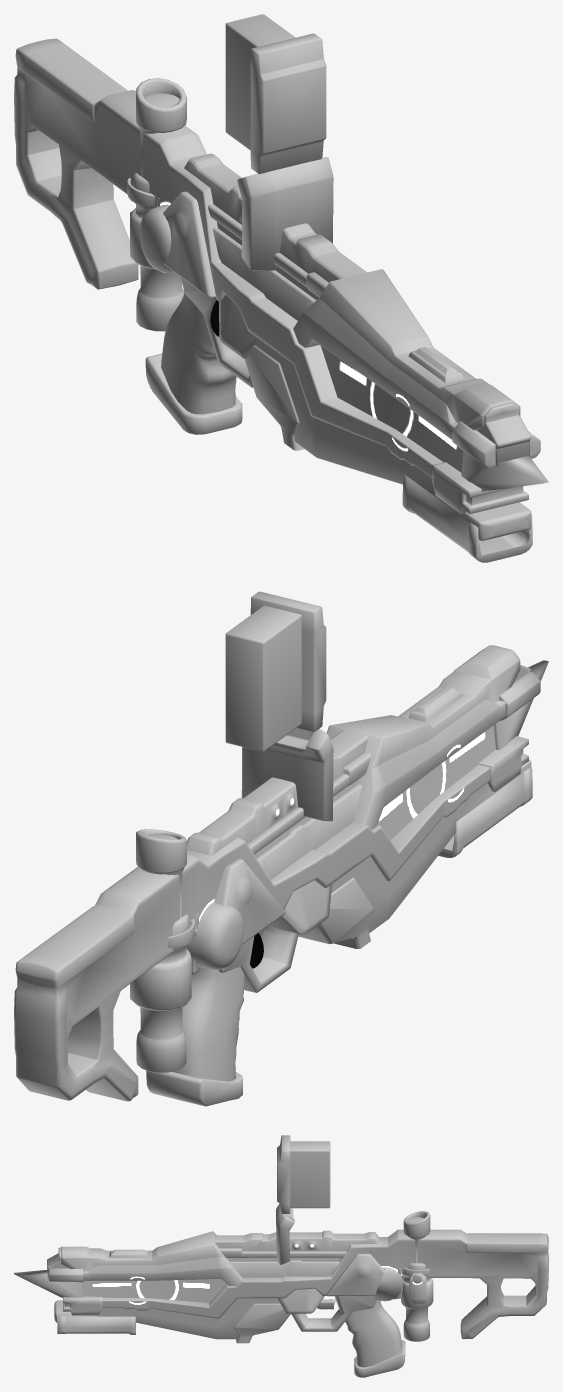
Rendered from SciFiRifle01_2.FBX.
3 renders of one model, top to bottom at view 1: azimuth 30°, elevation 25°; view 2: azimuth 150°, elevation 25°; view 3: azimuth 270°, elevation 25°, orthographic. The views are drawn at different scales.
Parts seen in each view (by area): view 1: SciFiRifle01_2, Clip, Extruder, Scope2; view 2: SciFiRifle01_2, Clip, Scope2, Extruder; view 3: SciFiRifle01_2, Clip, Scope2, Extruder.
Boxes of the visible parts, x1,y1,x2,y2 form: SciFiRifle01_2: [14, 38, 548, 562]; Clip: [225, 14, 326, 174]; Extruder: [237, 157, 333, 270]; Scope2: [130, 78, 186, 331]; SciFiRifle01_2: [14, 645, 548, 1106]; Clip: [225, 591, 326, 751]; Scope2: [130, 829, 199, 1072]; Extruder: [241, 728, 333, 821]; SciFiRifle01_2: [14, 1229, 548, 1377]; Clip: [277, 1135, 330, 1213]; Scope2: [394, 1211, 433, 1341]; Extruder: [276, 1203, 294, 1264].
Bounding box in the file's own units: 9.58 × 46.67 × 99.21.
